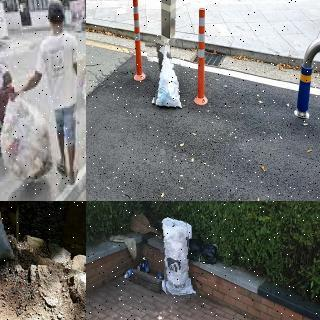Garbage: (0, 90, 53, 179), (158, 211, 195, 303), (148, 38, 186, 115), (0, 201, 15, 269), (74, 58, 86, 125), (188, 239, 204, 261), (201, 244, 217, 264)
